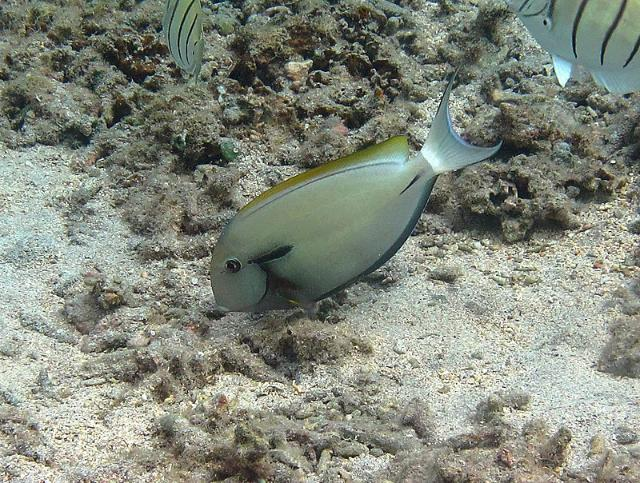Sirip Anal: (325, 170, 441, 304)
Sirip Dada: (263, 274, 333, 324)
Sirip Ekor: (412, 56, 514, 186)
Sirip Punggung: (234, 128, 413, 224)
